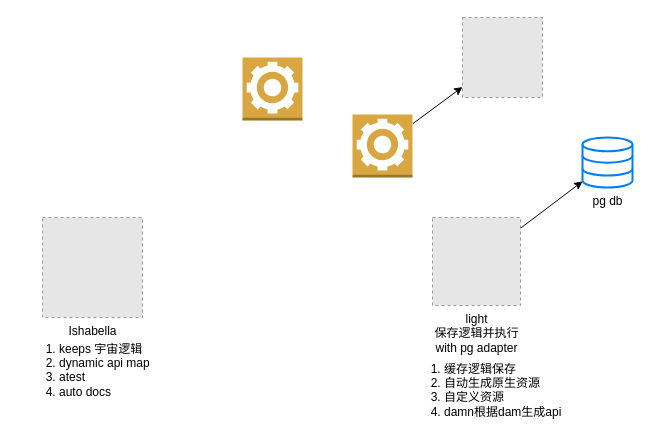
Some shapes in this 650 by 445 pixel diagram are drawn without their labels. Grey dashed boxes stand in for pictures. The shapes that lost their labels are listed below. From the top down, each one's box as (x1, y1, x2, y2) in pixels, then its label:
(242, 56, 302, 120): worker with aok adapter
(352, 114, 412, 178): worker with xml adapter
